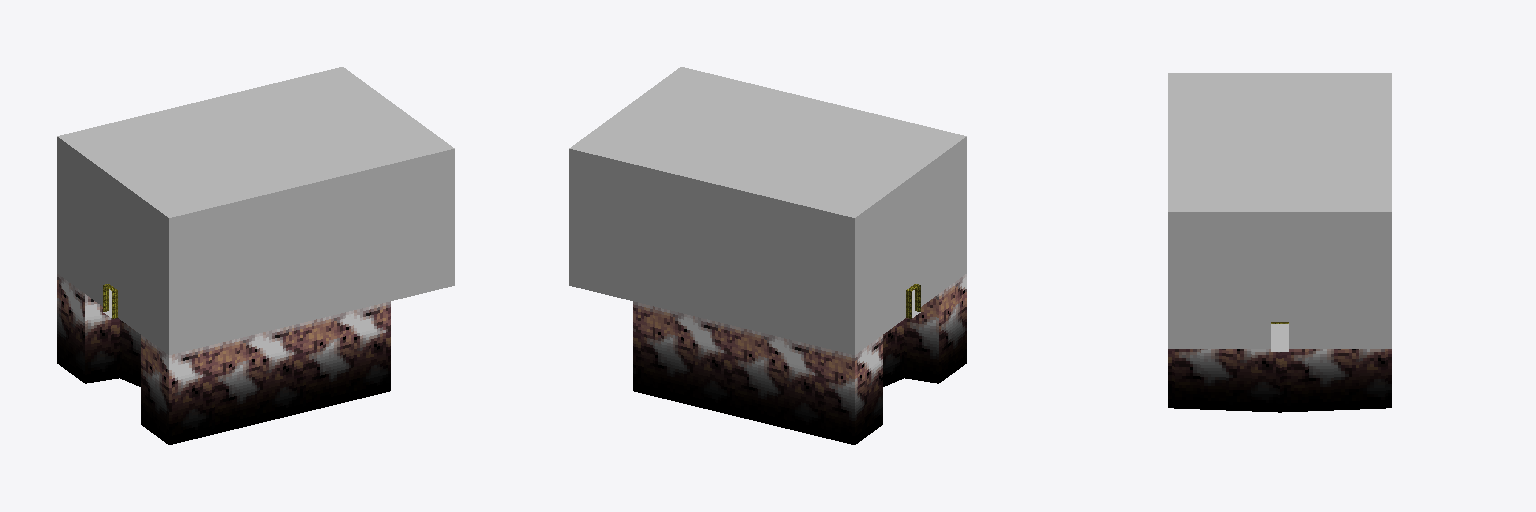
3 renders of one model, left to right at view 1: azimuth 30°, elevation 25°; view 2: azimuth 150°, elevation 25°; view 3: azimuth 270°, elevation 25°, orthographic.
Parts seen in each view (by area): view 1: Floor2#Room1; view 2: Floor2#Room1; view 3: Floor2#Room1.
Part boxes in pixels (left/top/right/bottom): Floor2#Room1: left=57, top=67, right=454, bottom=444; Floor2#Room1: left=569, top=67, right=966, bottom=444; Floor2#Room1: left=1168, top=73, right=1391, bottom=412.
Bounding box in the file's own units: 1126 × 825 × 737.
Materials: 5 (2 with a texture image).